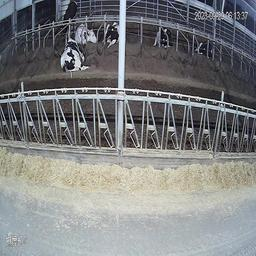cow: (61, 38, 88, 73), (59, 0, 79, 33), (74, 24, 97, 46), (154, 24, 174, 49), (194, 36, 212, 59), (102, 22, 120, 45)
